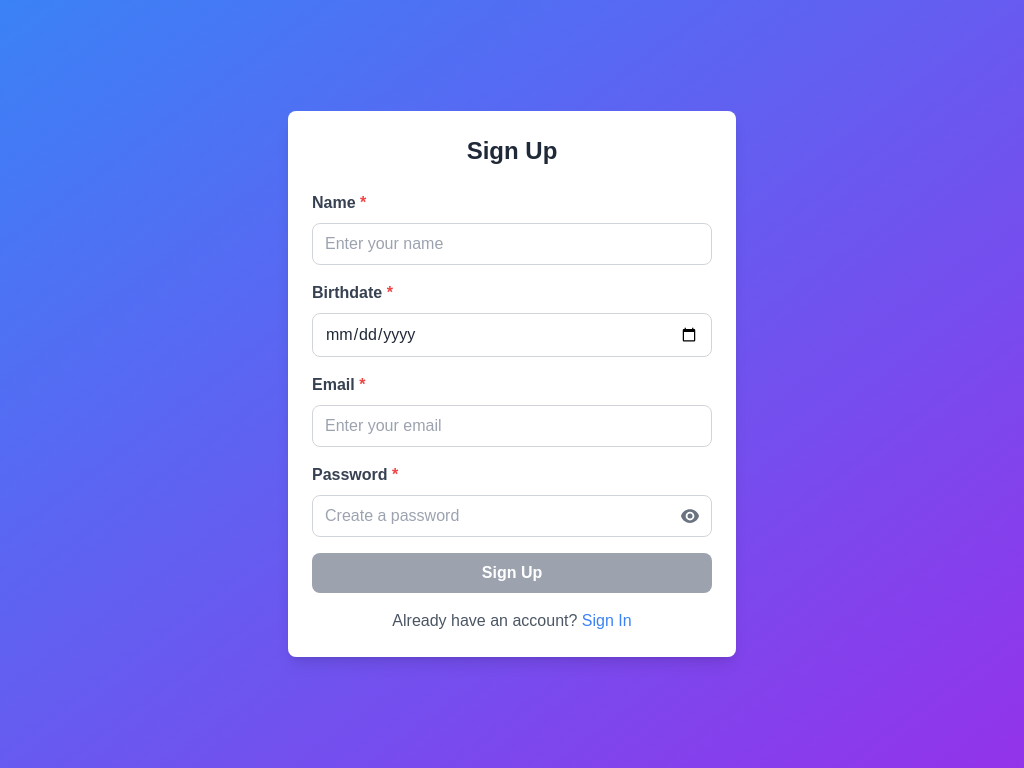
SignUp Component › should disable submit button while loading
// Fill form with valid data
Type "John Doe" into the field labelled "Name *". click: (512, 244)
box: top-left (312, 223), bottom-right (712, 265)
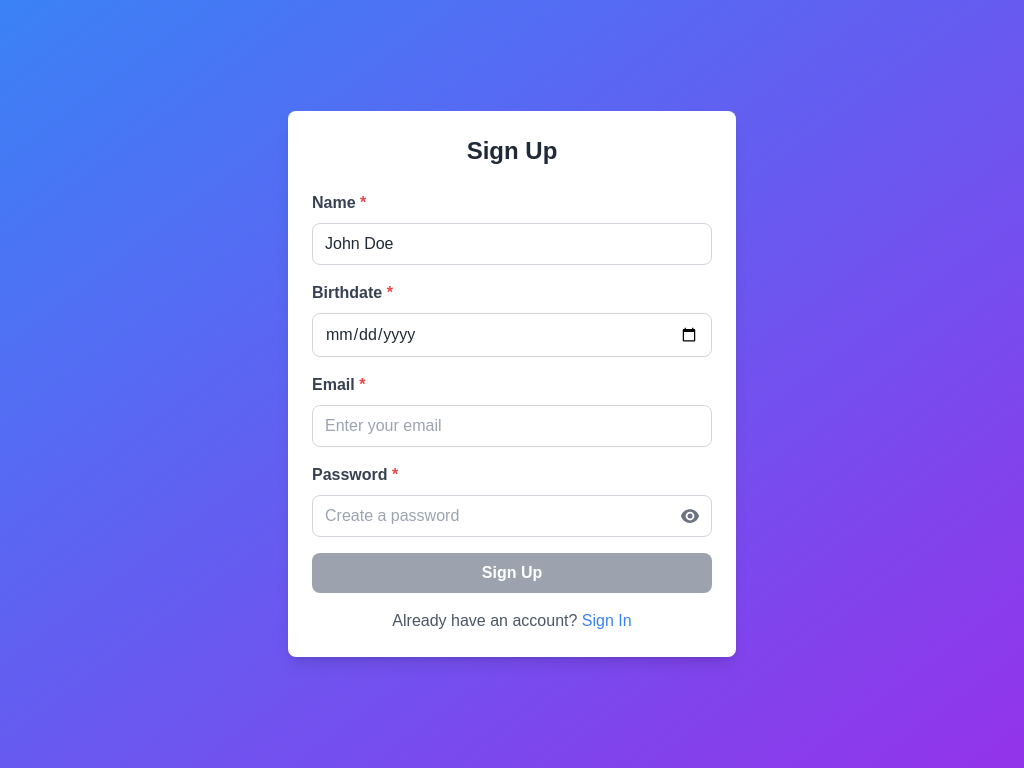
Type "john@example.com" into the field labelled "Email *". click: (512, 426)
box: top-left (312, 405), bottom-right (712, 447)
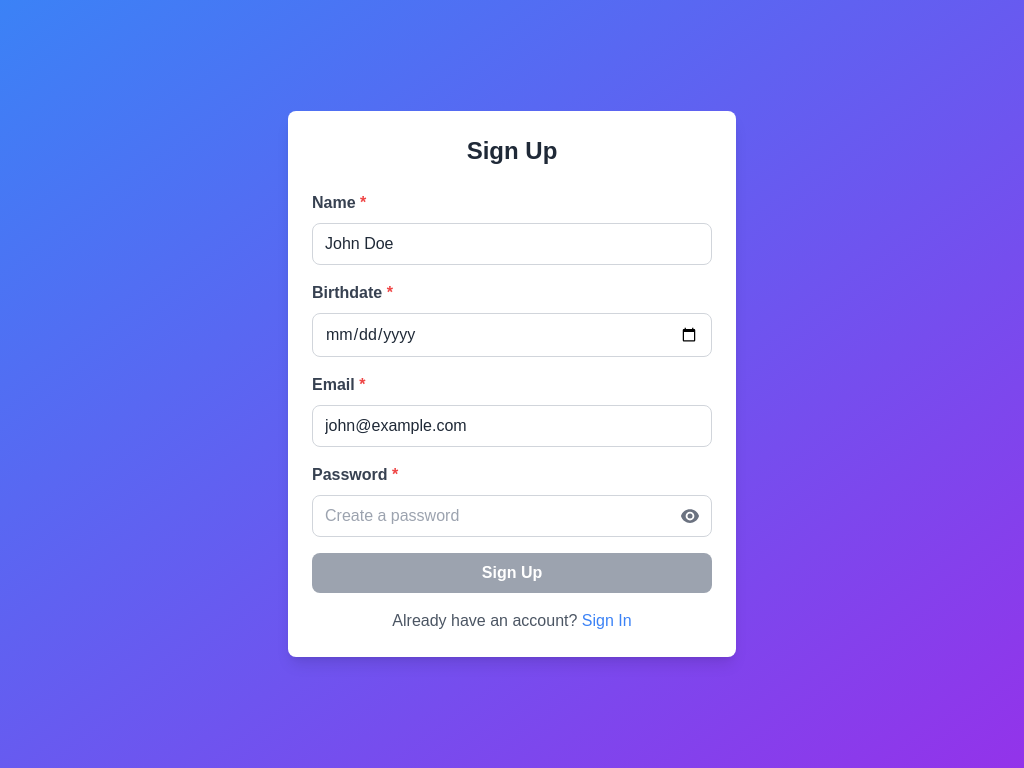
Type "password123" into the password field labelled "Password *". click: (512, 516)
box: top-left (312, 495), bottom-right (712, 537)
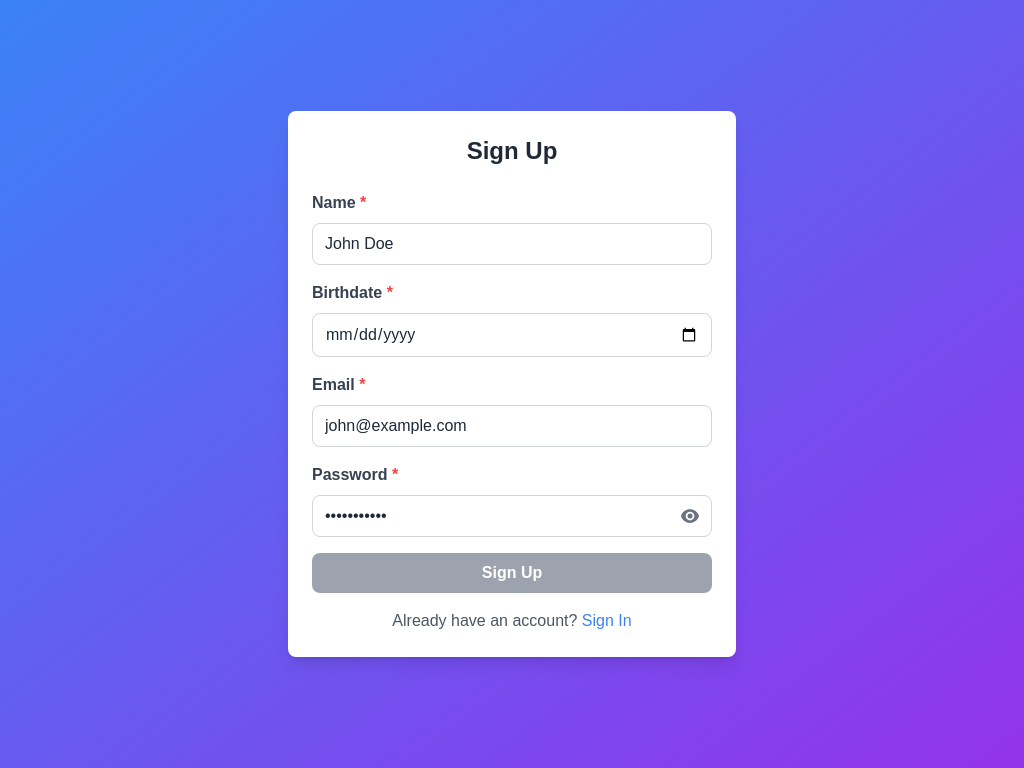
Type "1990-01-01" into the date field labelled "Birthdate *". click: (512, 335)
box: top-left (312, 313), bottom-right (712, 357)
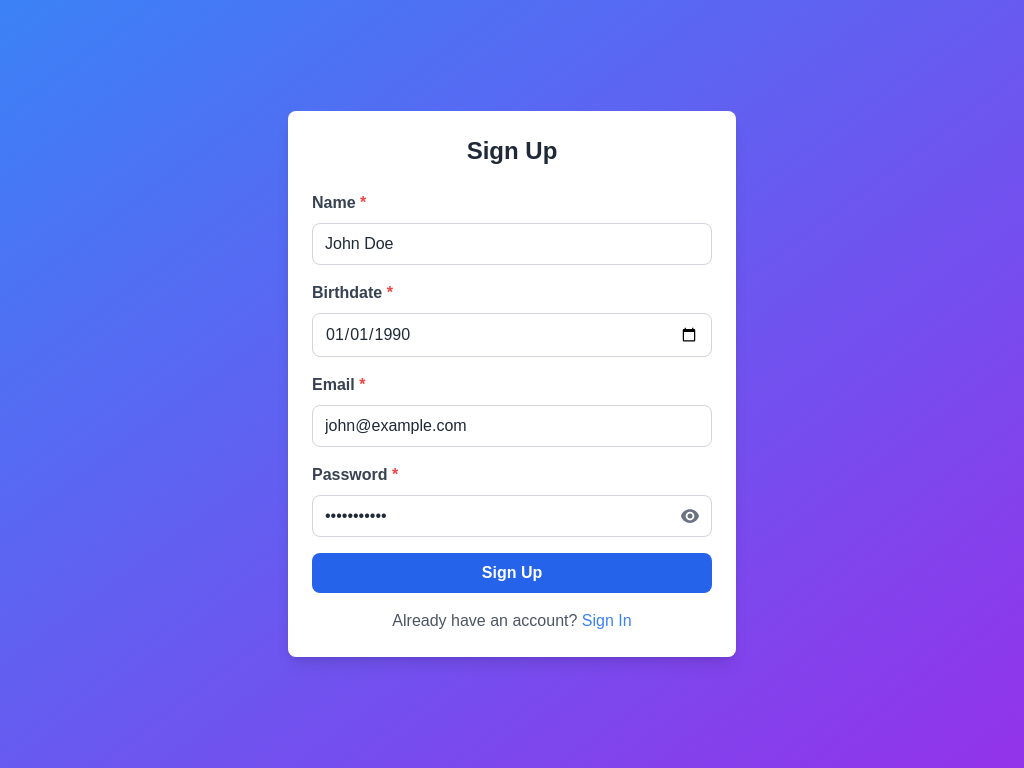
// Submit form
Click the button "Sign Up". click: click(512, 573)
box: top-left (312, 553), bottom-right (712, 593)
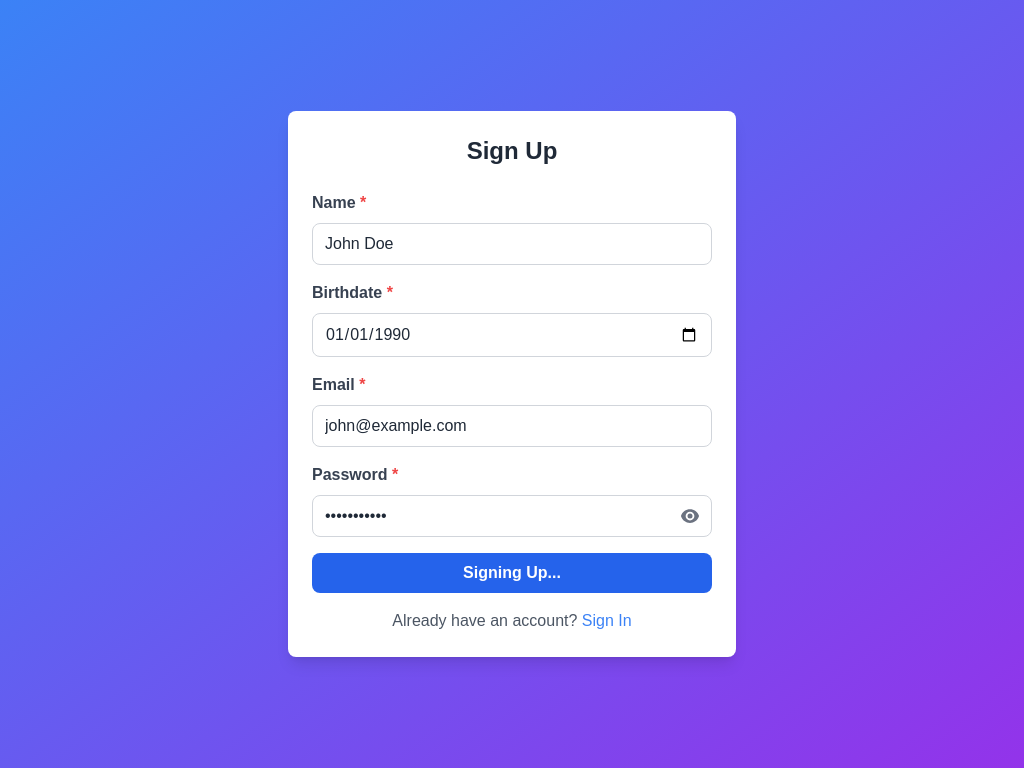
Now the button "Signing Up..." is disabled, box top-left (312, 553), bottom-right (712, 593)
